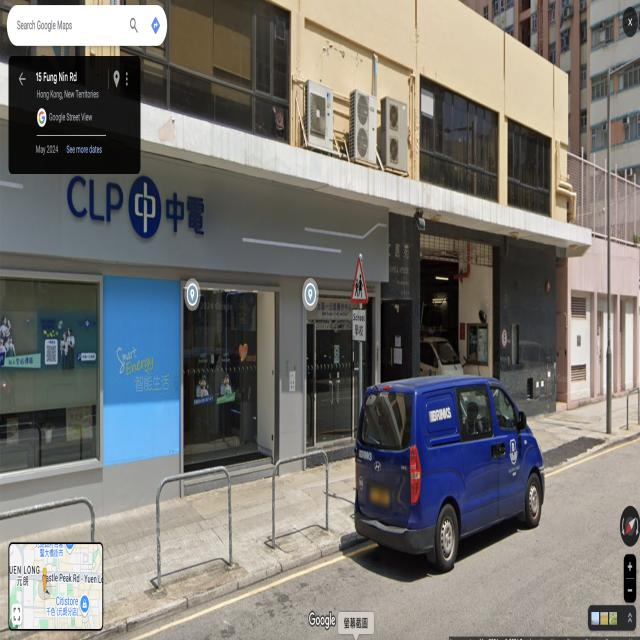Order-Sign: (352, 309, 366, 342), (501, 327, 508, 348)
Warning-Sign: (350, 256, 369, 303)
